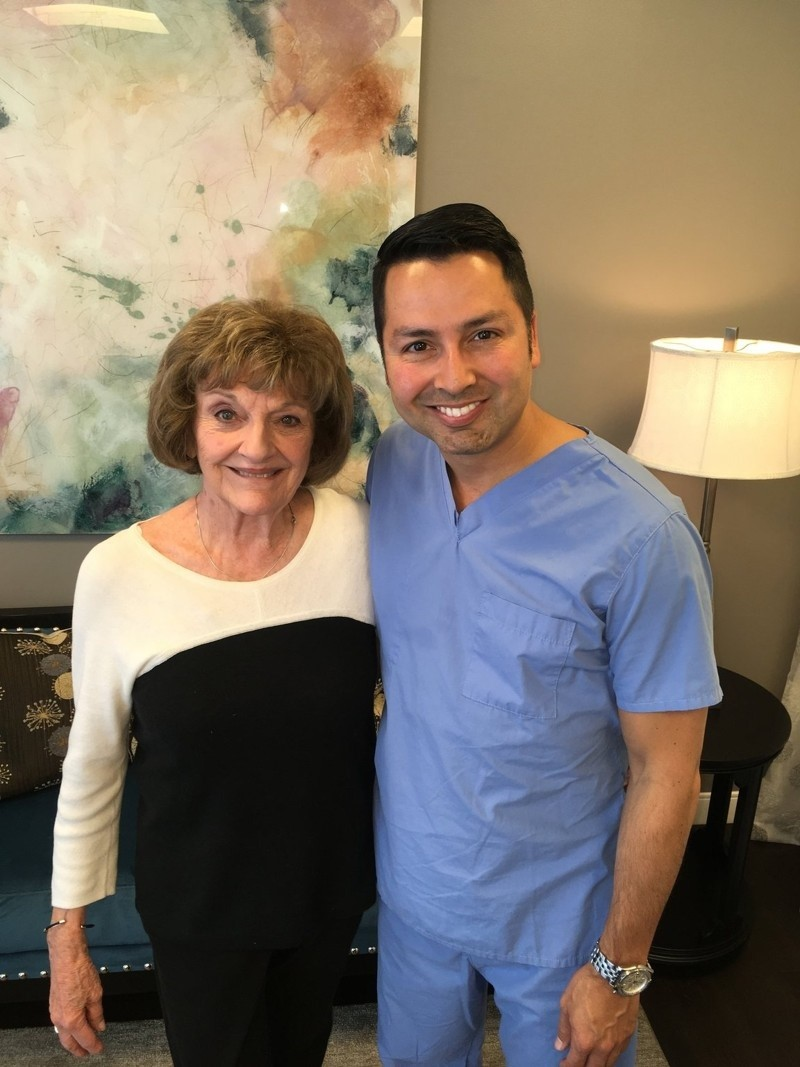face_no_mask: (157, 294, 356, 514), (374, 201, 541, 455)
